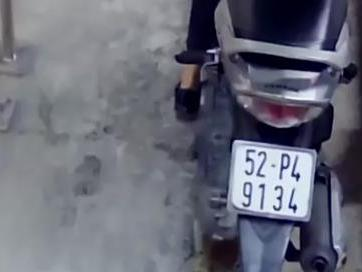num_plate: (228, 141, 316, 222)
